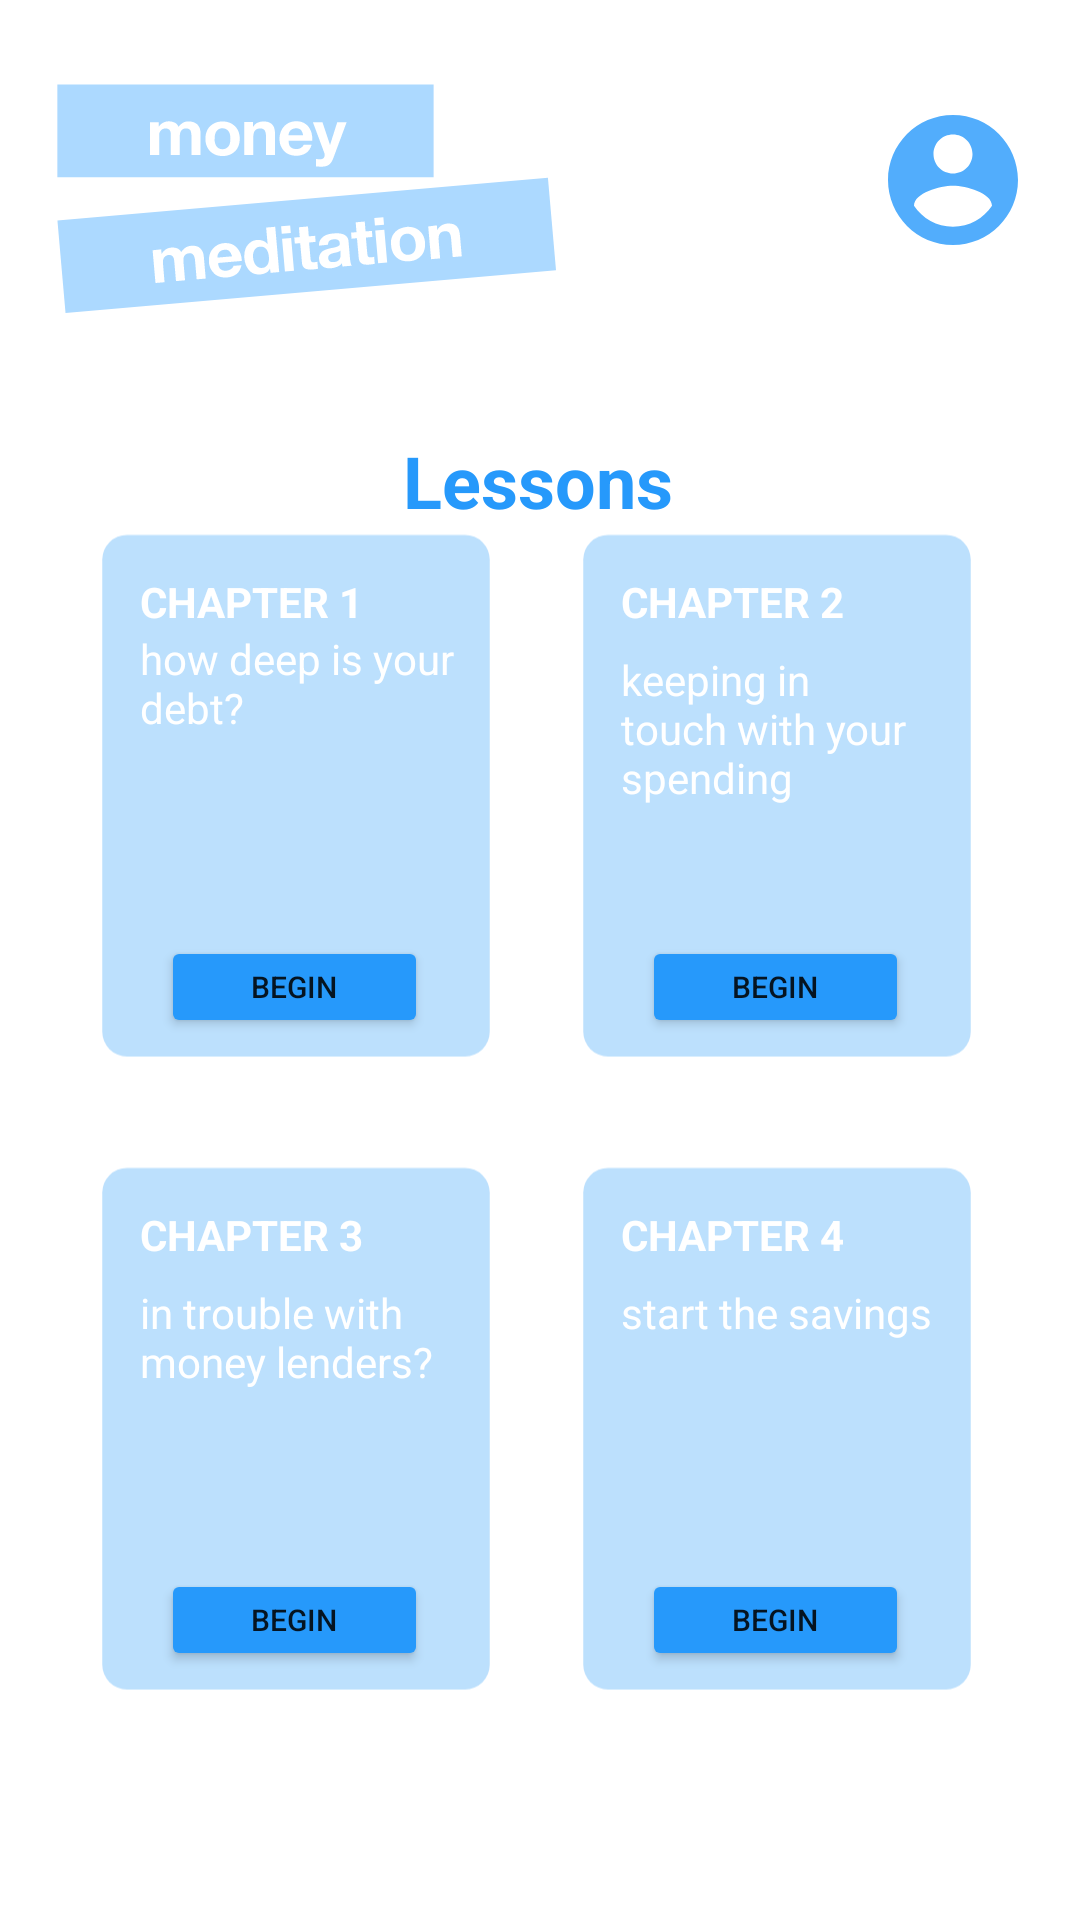

Screen size 1080w x 1920h. Icon name, then its center in pixels as (x=x, y=y):
account: (x=953, y=180)
